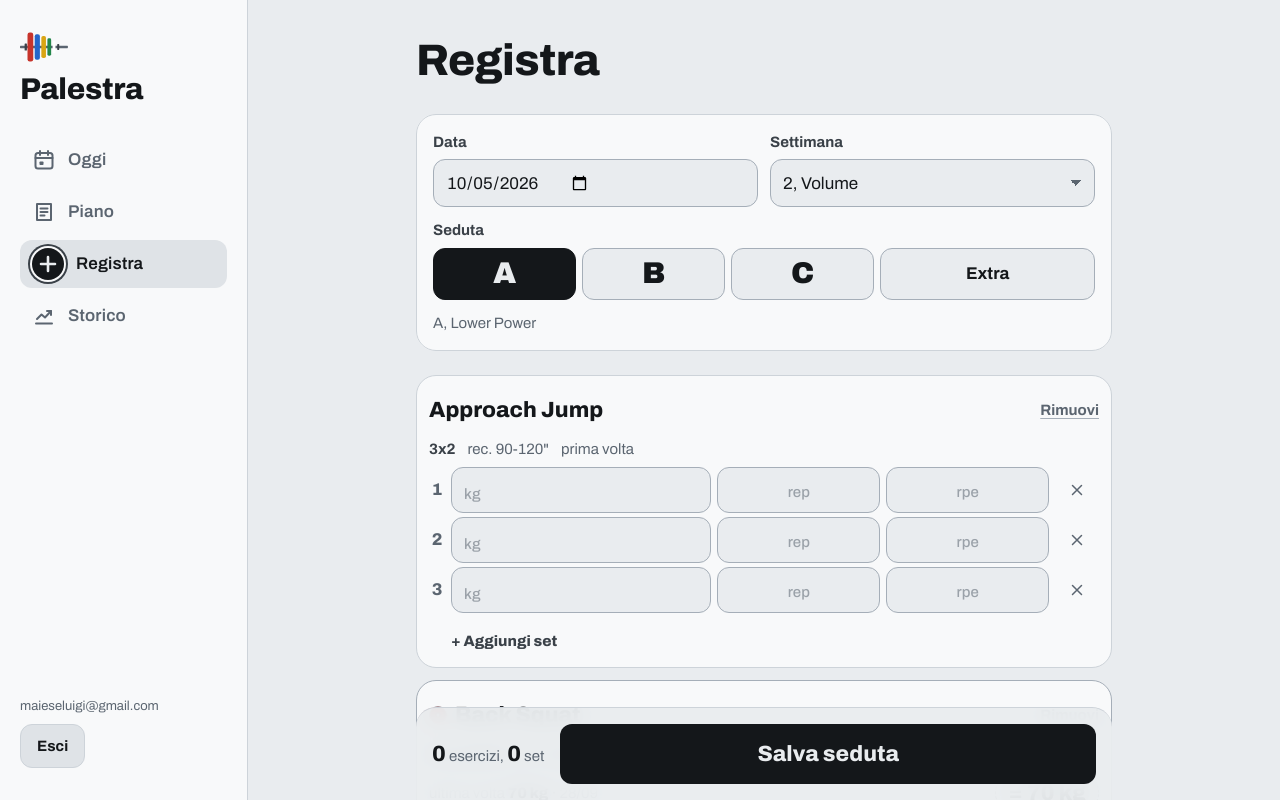
Test case: Registra › requires at least one load or the conditioning
Expected: the date field labelled "Data" is shown, [433, 159, 758, 207]
Click the button "Salva seduta".
click(828, 754)  # box [560, 724, 1096, 784]
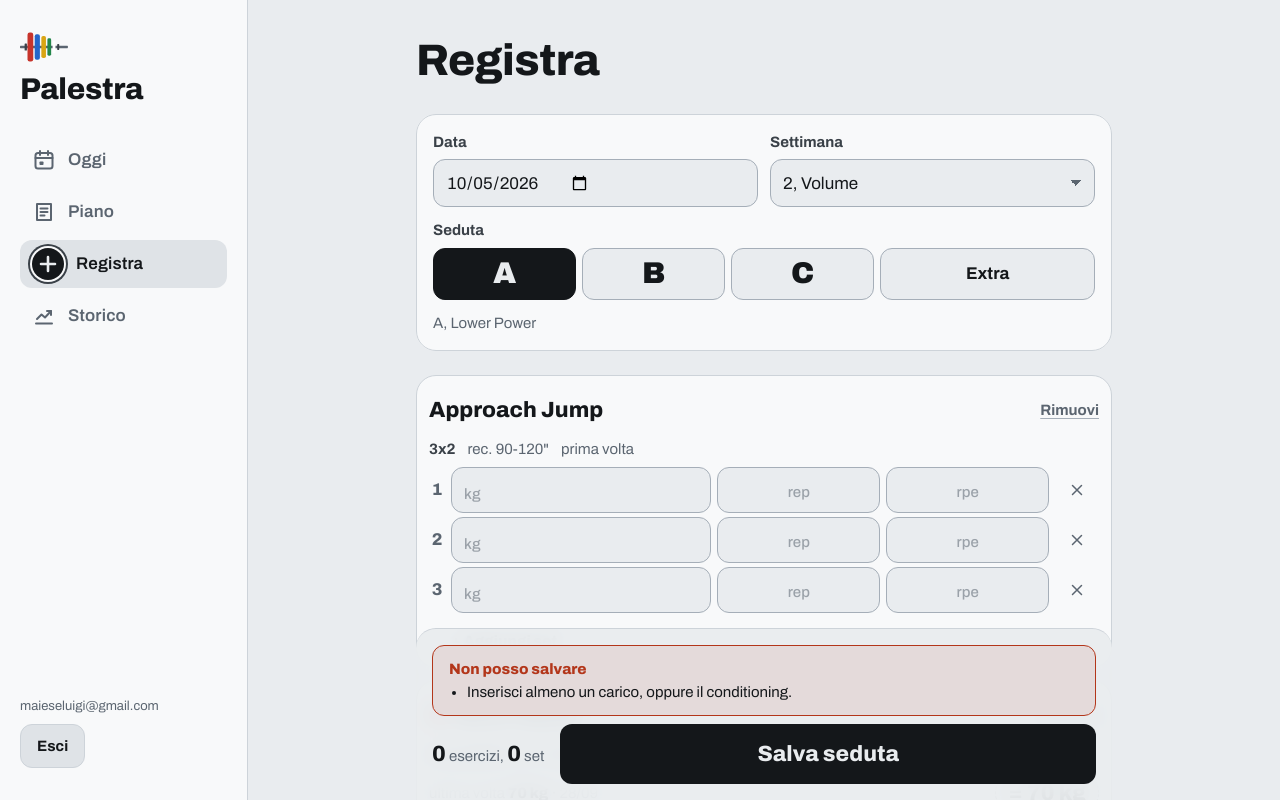
Expected: the message shows "Inserisci almeno un carico, oppure il conditioning.", [467, 684, 792, 700]
